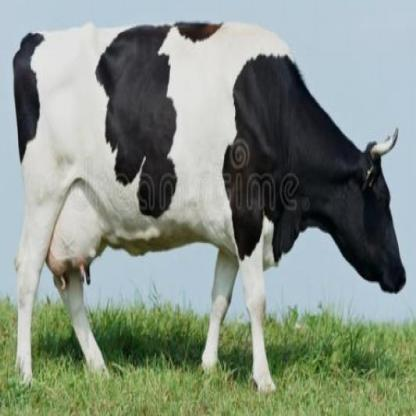cow: (14, 24, 406, 391)
